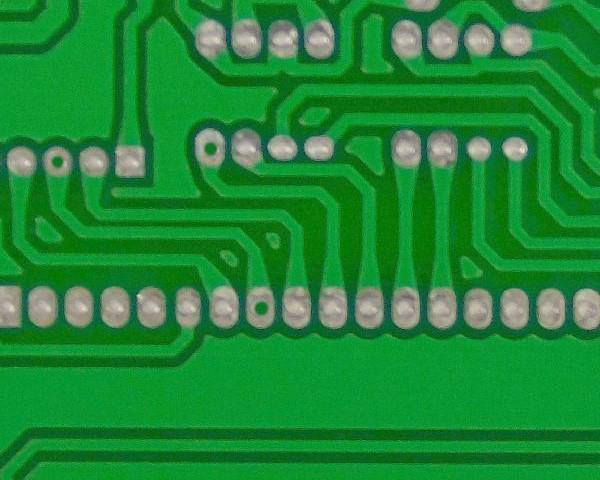missing hole: (190, 122, 231, 170), (242, 284, 280, 331), (37, 141, 78, 177)
